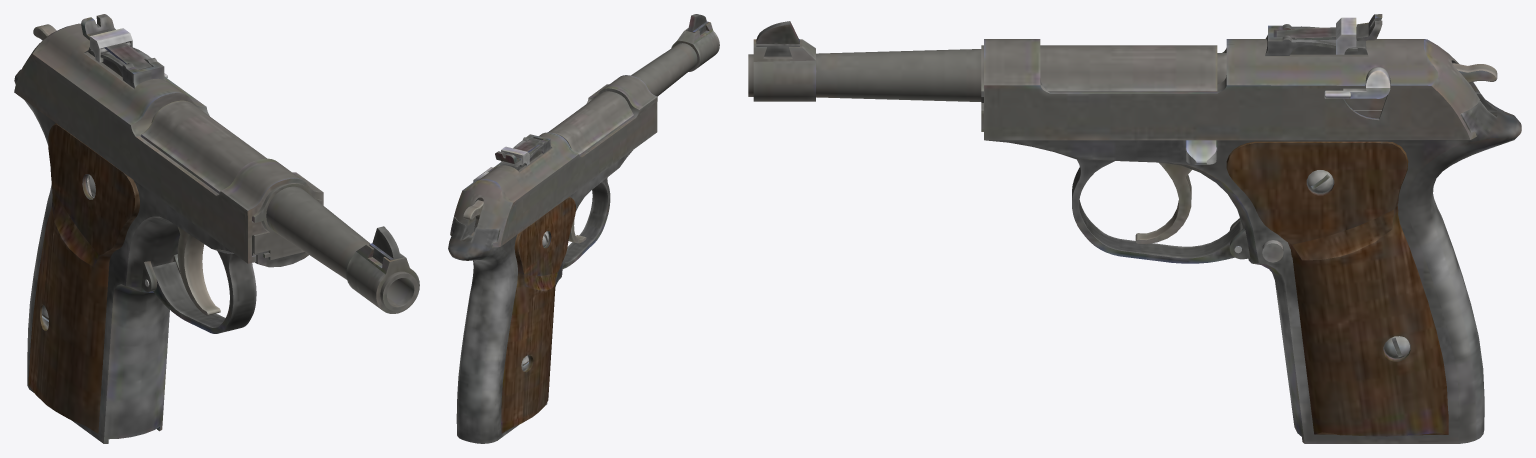
The picture shows the model from 3 angles, left to right: view 1: azimuth 30°, elevation 25°; view 2: azimuth 150°, elevation 25°; view 3: azimuth 270°, elevation 25°; orthographic projection. The views are drawn at different scales.
Visible parts, largest first — view 1: body_0, slide_1, trigger_4; view 2: body_0, slide_1, body_3; view 3: body_0, slide_1, trigger_4.
Part boxes in pixels (bbox=[...]): body_0: bbox=[14, 69, 419, 443]; slide_1: bbox=[14, 14, 323, 263]; trigger_4: bbox=[177, 227, 220, 315]; body_0: bbox=[448, 14, 719, 443]; slide_1: bbox=[450, 75, 657, 247]; body_3: bbox=[463, 200, 483, 235]; body_0: bbox=[748, 21, 1521, 443]; slide_1: bbox=[984, 14, 1479, 140]; trigger_4: bbox=[1135, 162, 1191, 244].
Bounding box in the file's own units: 3.18 × 12.95 × 22.19.
1 material, 1 textured.
